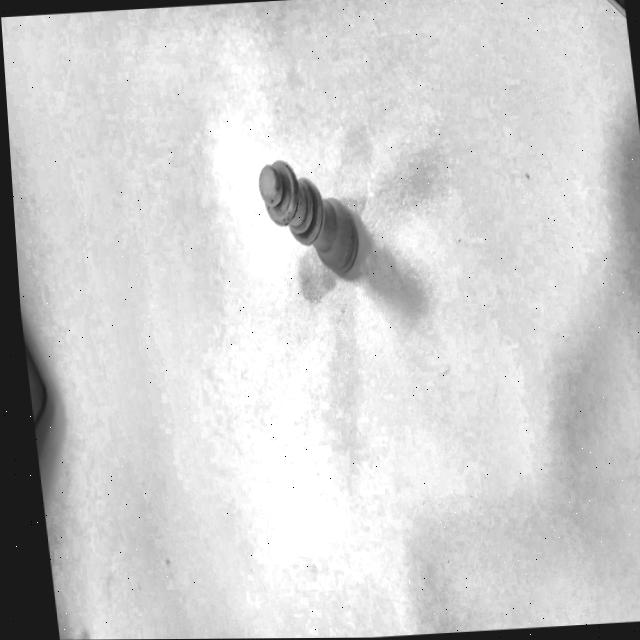white-queen: (210, 98, 402, 321)
